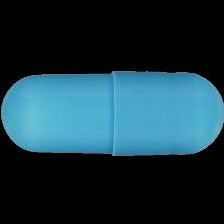68258-6023: (0, 0, 224, 224)
